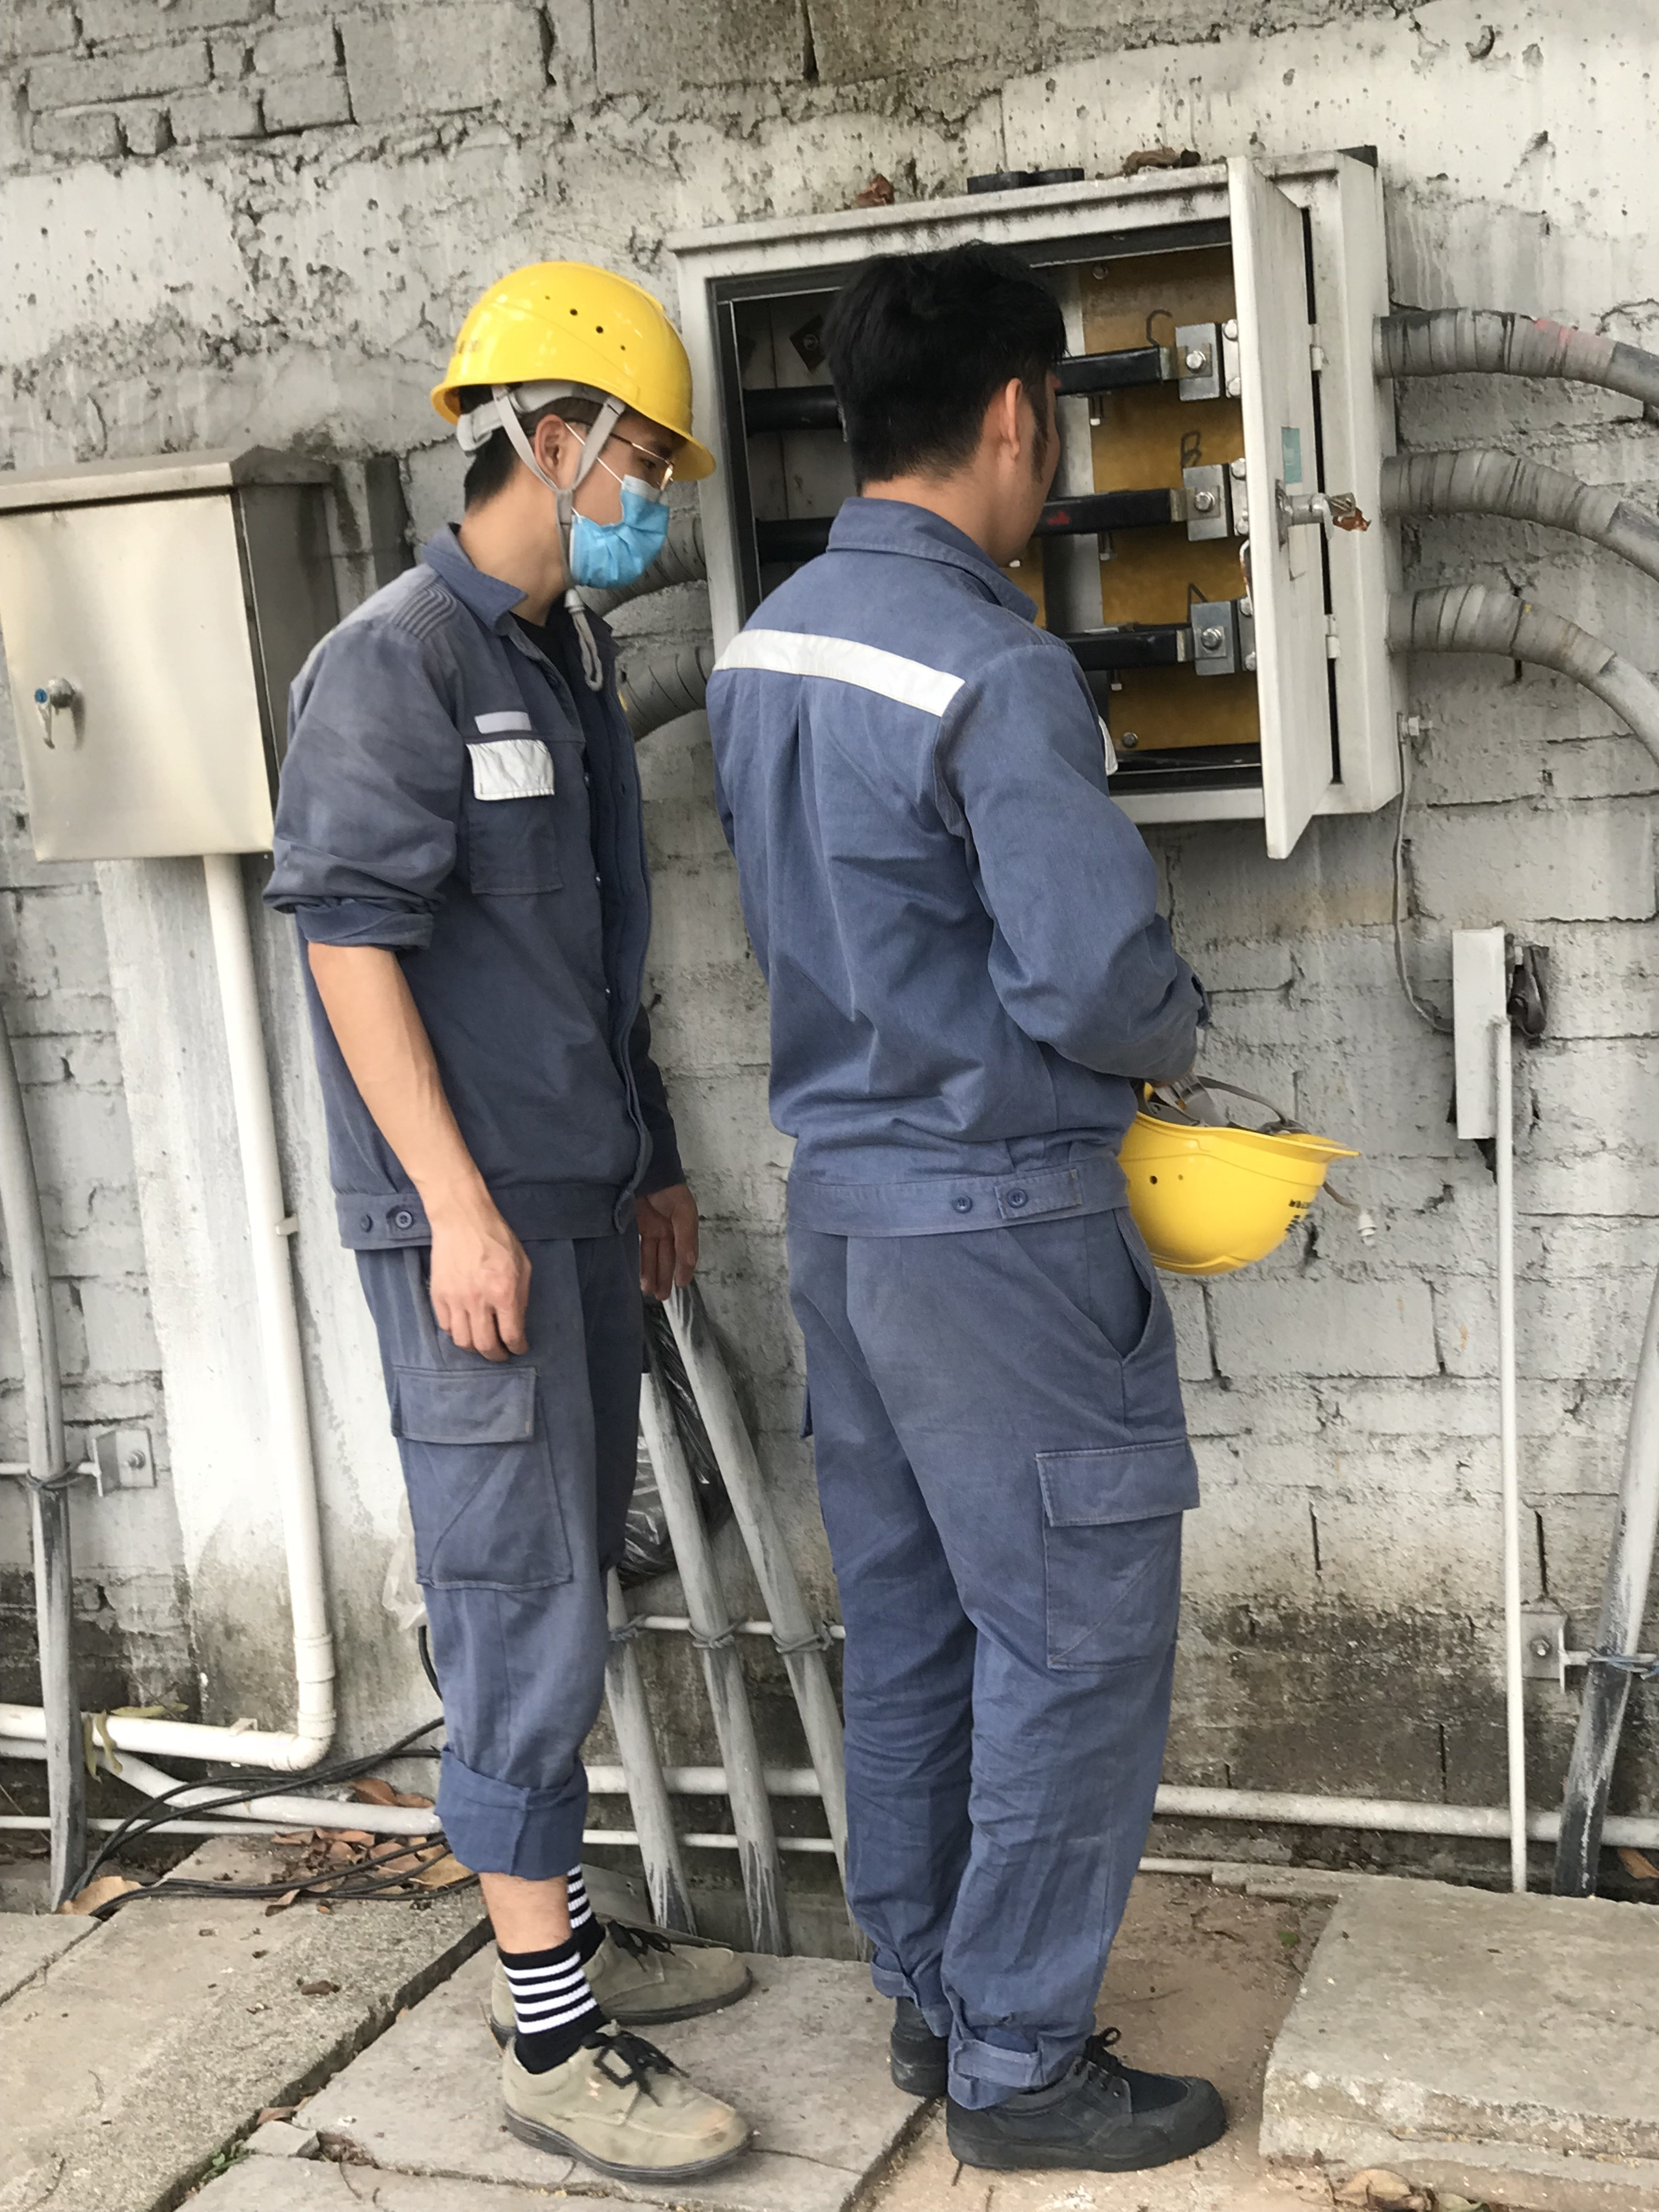downsuit: (779, 1211, 1208, 2113), (324, 1216, 692, 1959), (436, 1743, 606, 1993)
upsuit: (709, 496, 1227, 1240), (274, 554, 714, 1268)
wrongtop: (263, 831, 509, 1217)
